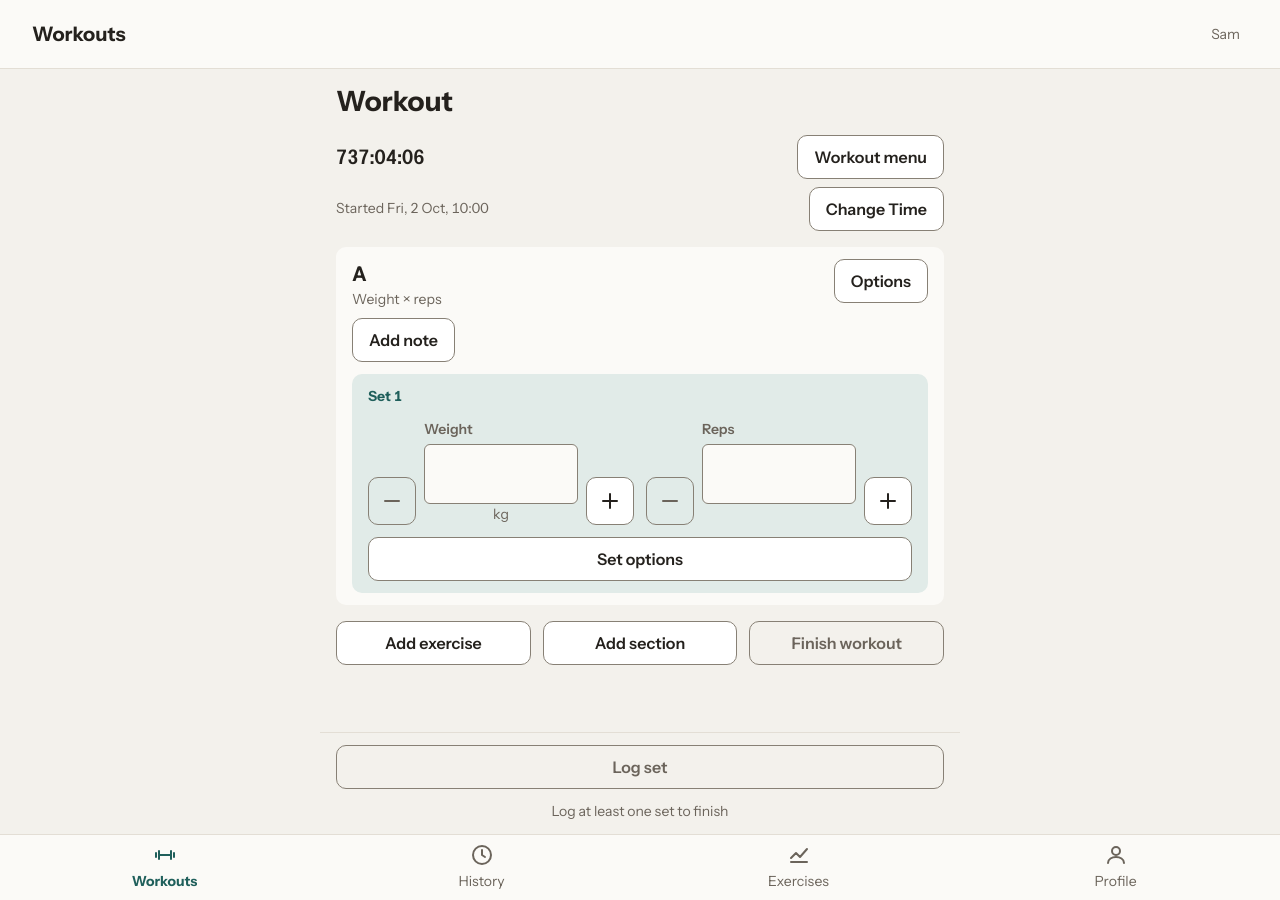
17.1 AC13 — a removed current exercise leaves no stale action on the bar › after removing the only exercise the bar cannot log
The image size is (1280, 900).
Expected: the heading "Workout" is shown, [336, 84, 453, 118]
What coordinates should you click on to do the following:
click the button with aria-label "Options for "
I would click on:
 (881, 281)
Its box is [834, 259, 928, 303].
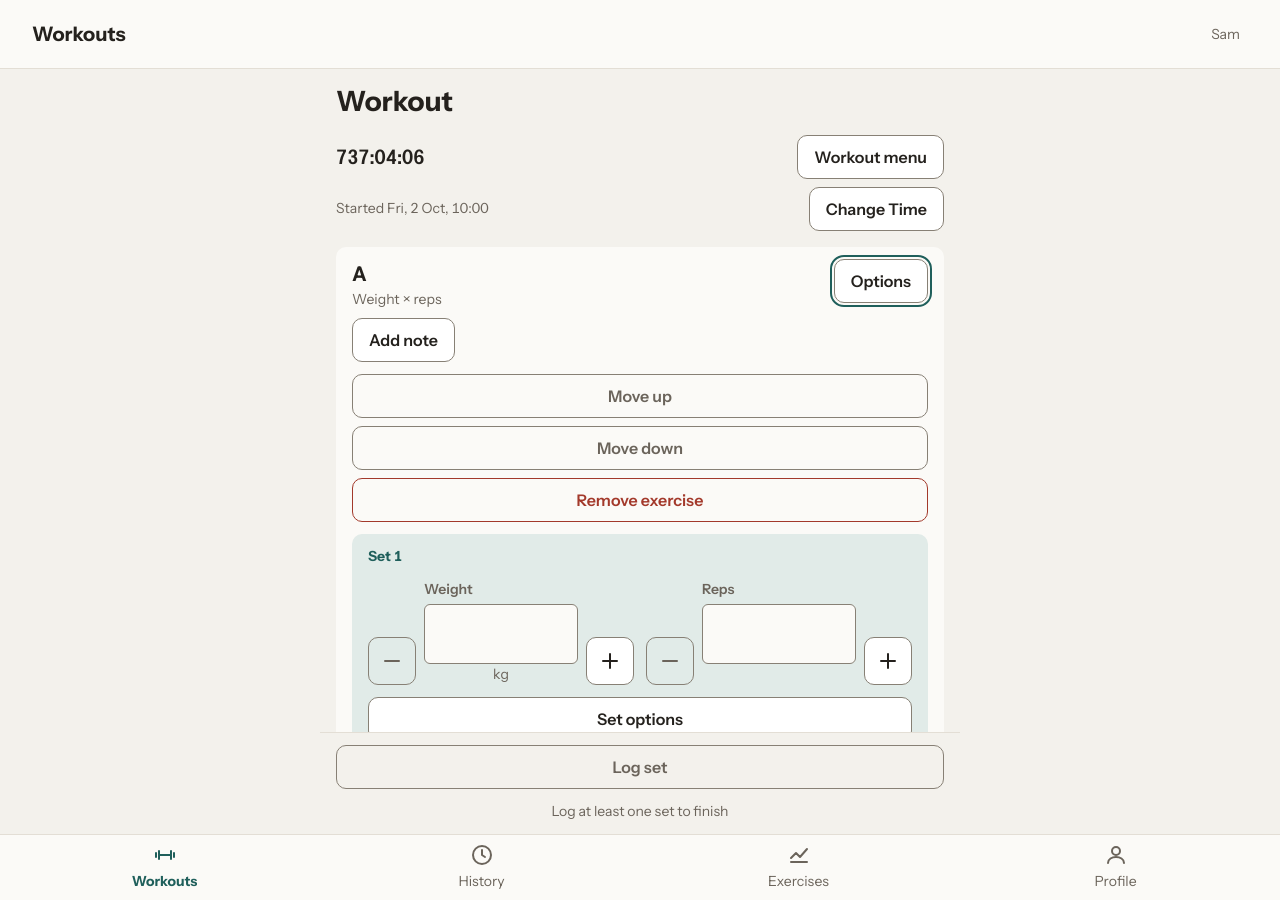
What coordinates should you click on to do the following:
click the button "Remove exercise"
I would click on:
 (640, 500)
Its box is [352, 478, 928, 522].
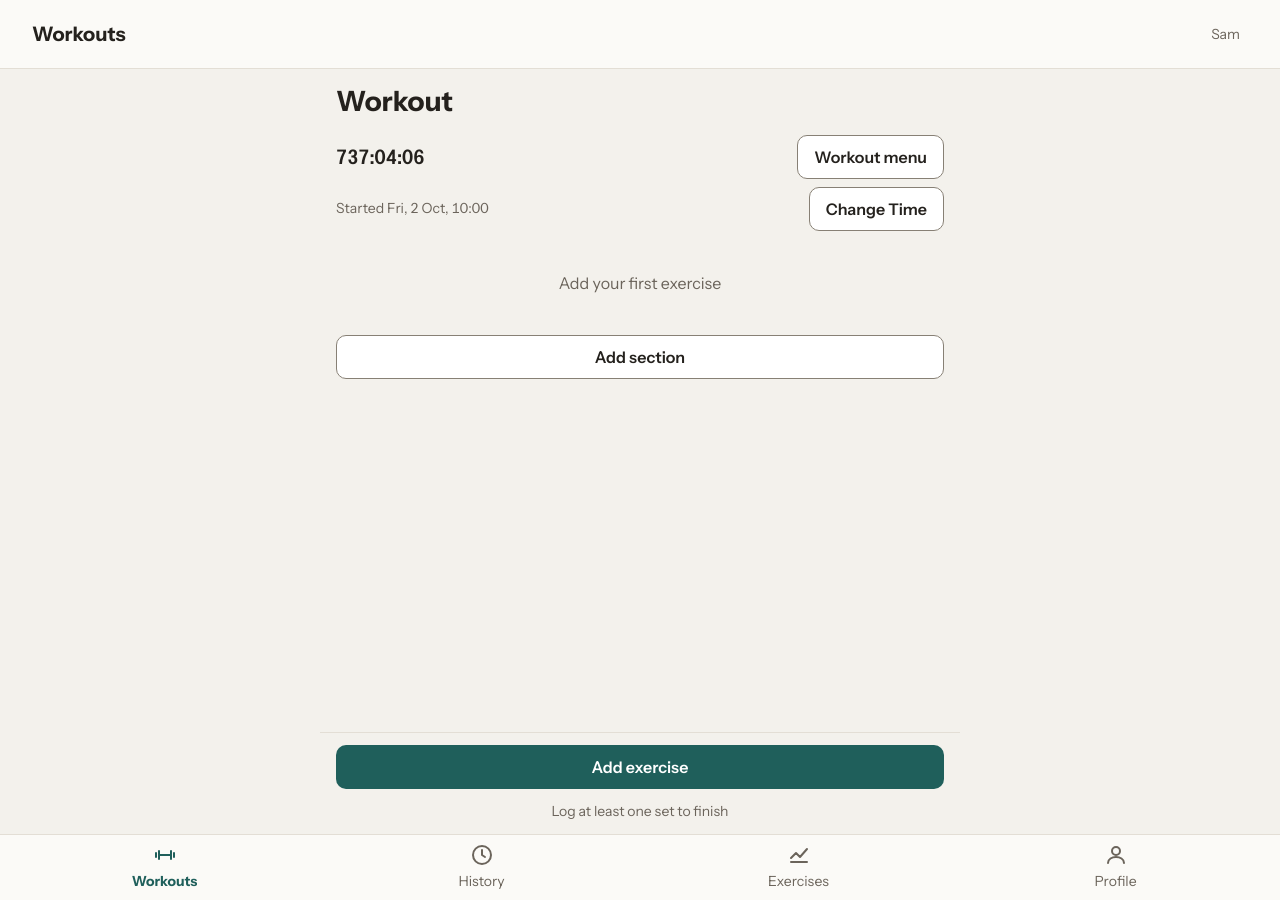
Result: the button "Add exercise" is shown at [336, 745, 944, 789]
